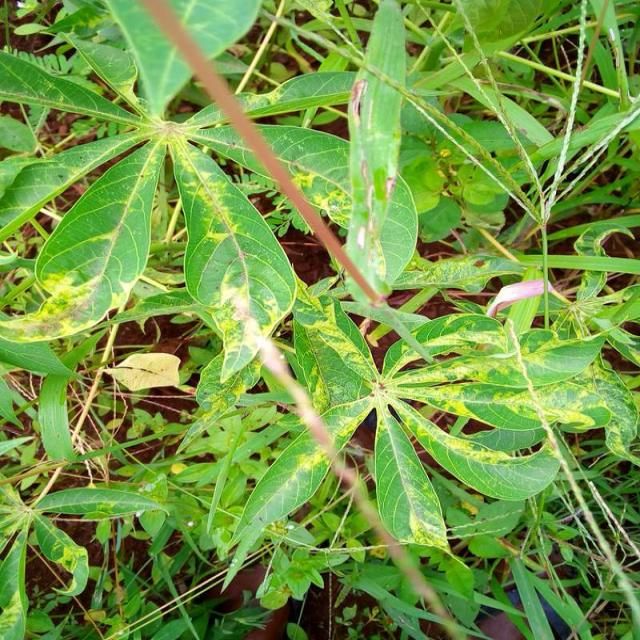cassava leaf: (2, 0, 640, 626), (170, 135, 298, 384), (344, 0, 411, 305)
